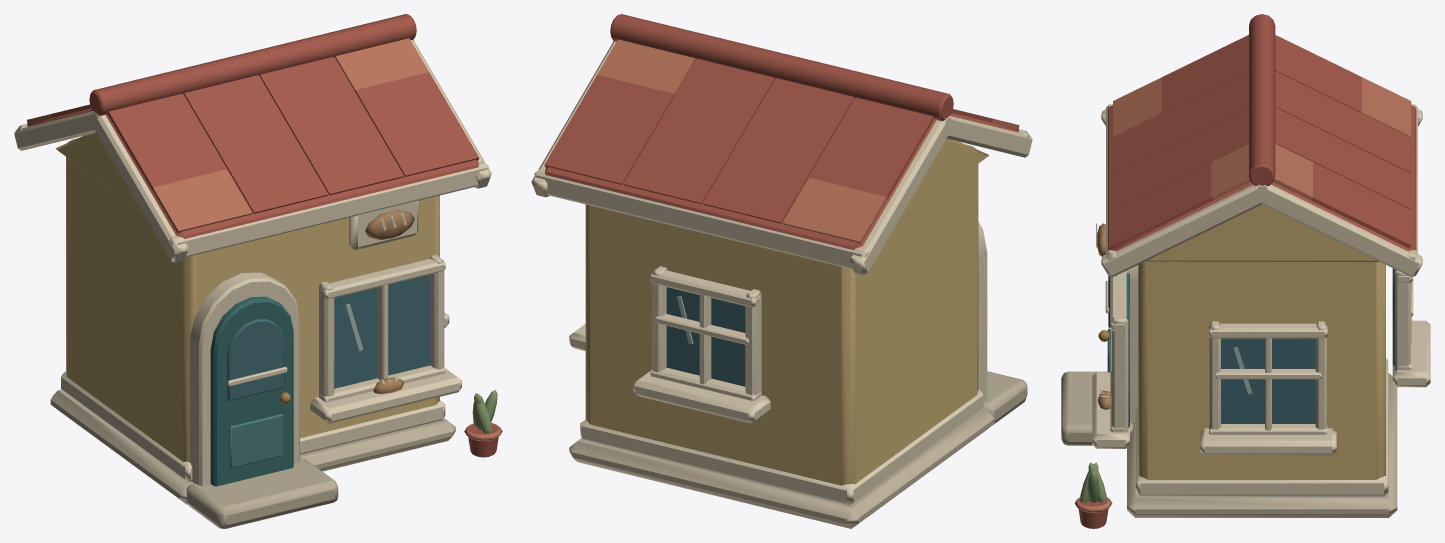
Rendered from bakery_level_1.glb.
The picture shows the model from 3 angles, left to right: view 1: azimuth 30°, elevation 25°; view 2: azimuth 150°, elevation 25°; view 3: azimuth 270°, elevation 25°; orthographic projection. The views are drawn at different scales.
Visible parts, largest first — view 1: bakery_level_1_runtime; view 2: bakery_level_1_runtime; view 3: bakery_level_1_runtime.
Part boxes in pixels (x1=…): bakery_level_1_runtime: x1=14, y1=14, x2=502, y2=528; bakery_level_1_runtime: x1=531, y1=14, x2=1032, y2=528; bakery_level_1_runtime: x1=1061, y1=14, x2=1430, y2=528.
Bounding box in the file's own units: 2.93 × 3.2 × 2.92.
